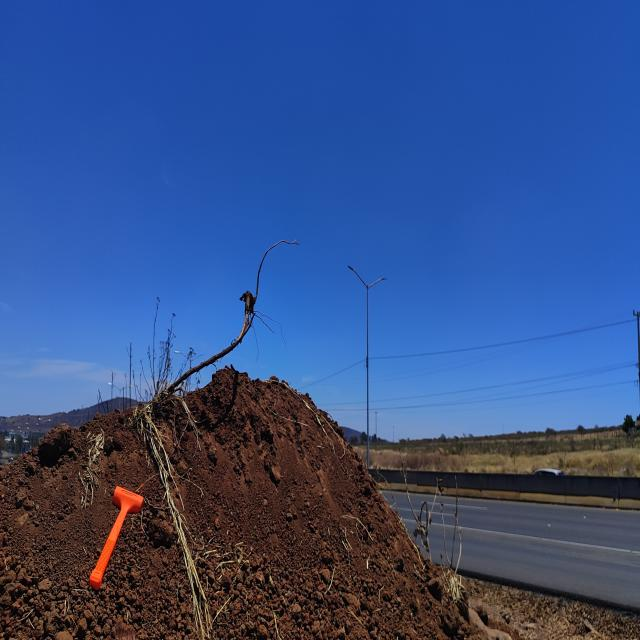Orange_hammer: (89, 484, 144, 590)
rock: (33, 422, 76, 462)
